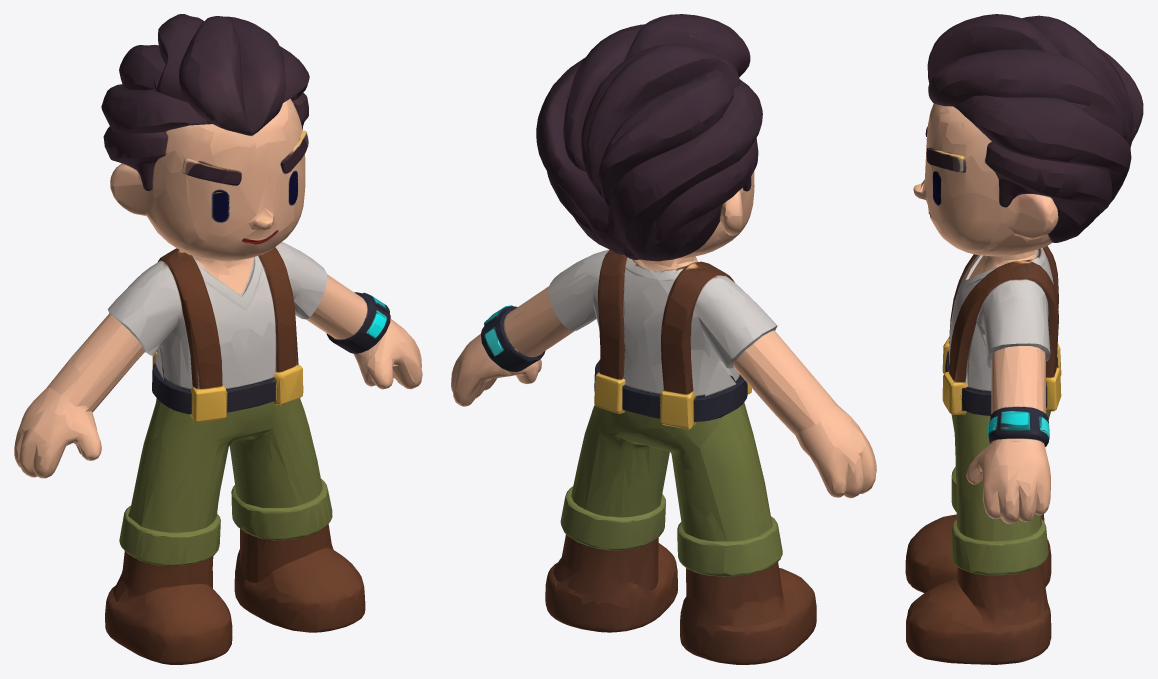
Rendered from kalle_reduziert_statisch.glb.
3 renders of one model, left to right at view 1: azimuth 30°, elevation 25°; view 2: azimuth 150°, elevation 25°; view 3: azimuth 270°, elevation 25°, orthographic. The views are drawn at different scales.
Parts seen in each view (by area): view 1: output_unwrapped; view 2: output_unwrapped; view 3: output_unwrapped.
Boxes of the visible parts, left/top/right/bottom form: output_unwrapped: left=14, top=14, right=422, bottom=664; output_unwrapped: left=451, top=14, right=876, bottom=664; output_unwrapped: left=905, top=14, right=1143, bottom=664.
Bounding box in the file's own units: 1.36 × 1.9 × 0.6954.
1 material, 1 textured.
